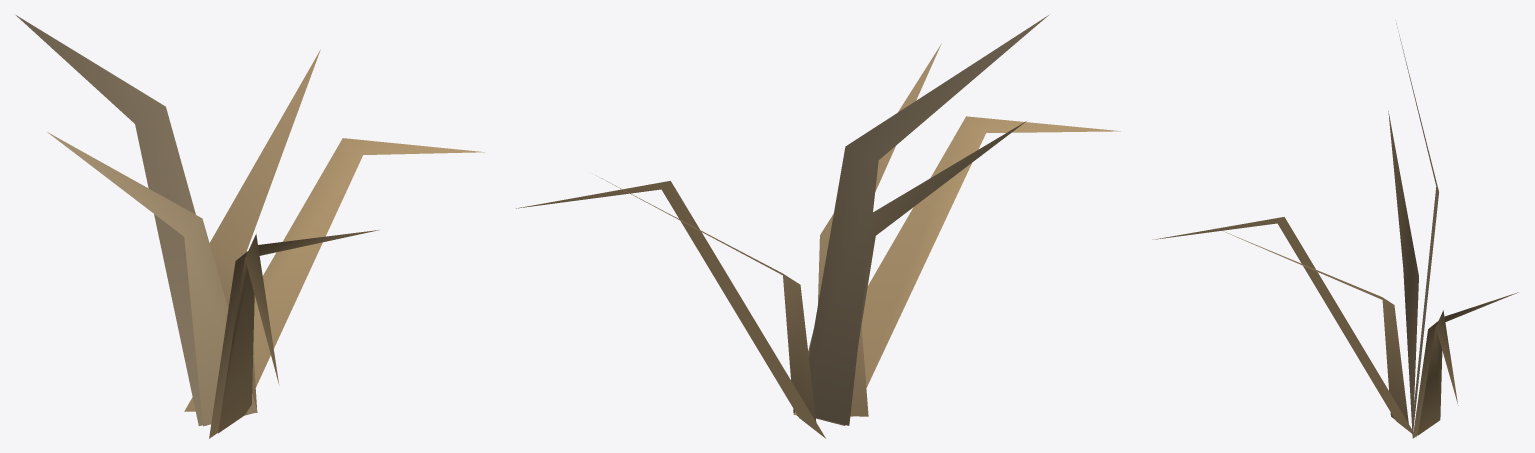
File: Grass_g_TwoS_02.fbx
3 views of the same model, side by side, from view 1: azimuth 30°, elevation 25°; view 2: azimuth 150°, elevation 25°; view 3: azimuth 270°, elevation 25° (orthographic). The views are drawn at different scales.
Parts seen in each view (by area): view 1: Grass_g_TwoS_02; view 2: Grass_g_TwoS_02; view 3: Grass_g_TwoS_02.
Boxes of the visible parts, x1,y1,x2,y2 form: Grass_g_TwoS_02: [16, 15, 484, 438]; Grass_g_TwoS_02: [516, 15, 1120, 438]; Grass_g_TwoS_02: [1152, 20, 1518, 438].
Size of the model in its own units: 57.11 by 49.81 by 49.64.
